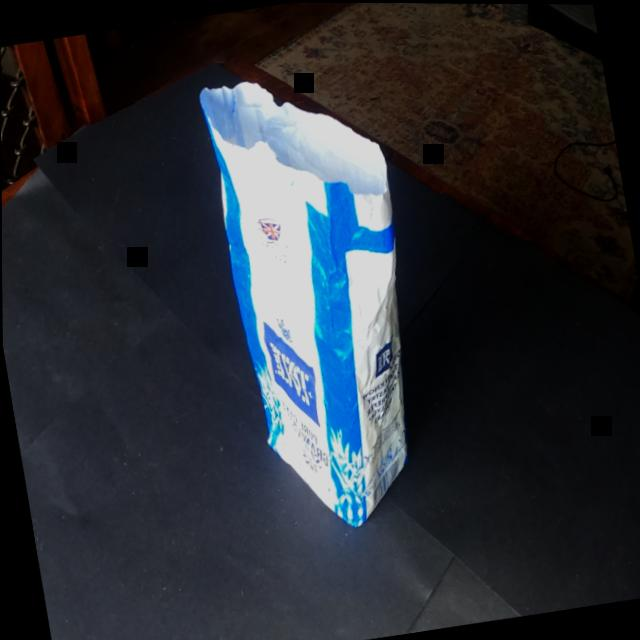Whitesugar: (203, 127, 410, 552)
